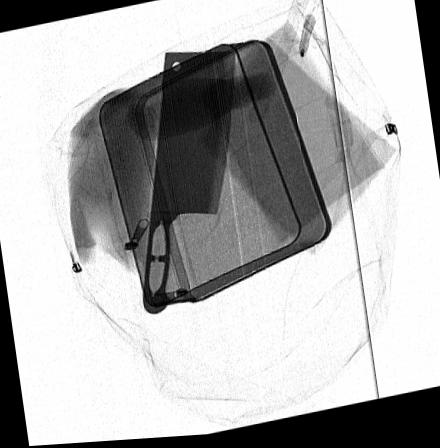Knife: (141, 54, 235, 317)
